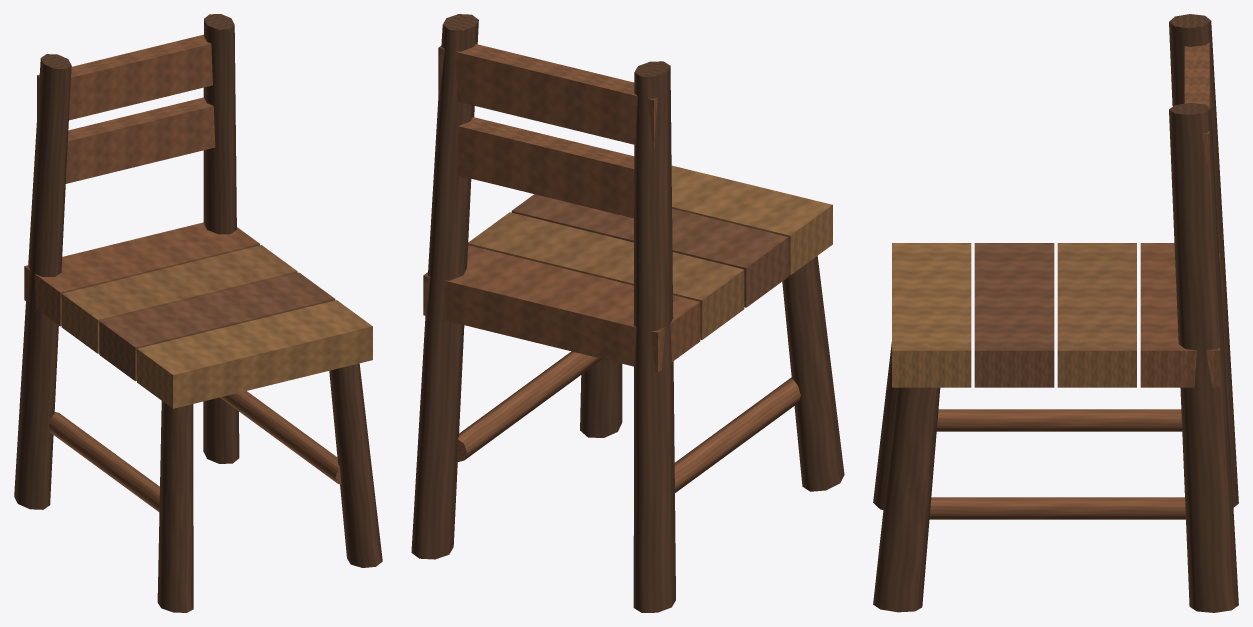
Rendered from chair.glb.
3 renders of one model, left to right at view 1: azimuth 30°, elevation 25°; view 2: azimuth 150°, elevation 25°; view 3: azimuth 270°, elevation 25°, orthographic. The views are drawn at different scales.
Parts seen in each view (by area): view 1: chair; view 2: chair; view 3: chair.
Part boxes in pixels (left/top/right/bottom): chair: left=14, top=14, right=382, bottom=612; chair: left=411, top=14, right=844, bottom=612; chair: left=873, top=14, right=1238, bottom=612.
Bounding box in the file's own units: 0.5 × 0.98 × 0.6595.
1 material, 1 textured.
